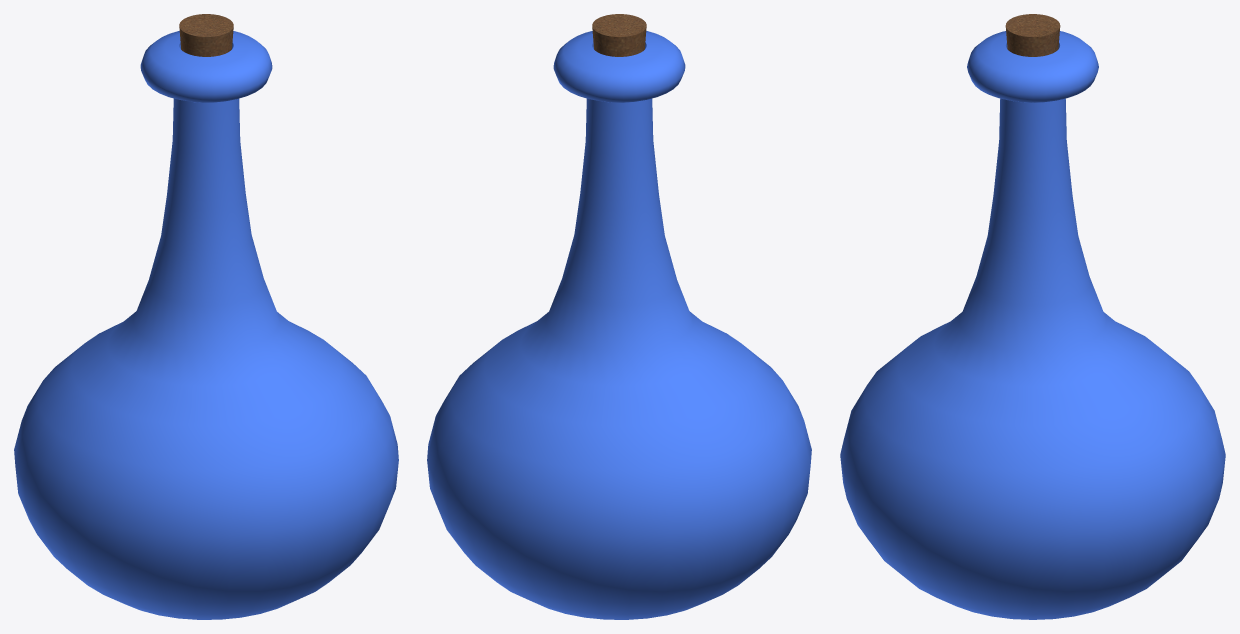
The model's file is mana_flask.gltf.
The picture shows the model from 3 angles, left to right: view 1: azimuth 30°, elevation 25°; view 2: azimuth 150°, elevation 25°; view 3: azimuth 270°, elevation 25°; orthographic projection.
Parts seen in each view (by area): view 1: Cylinder; view 2: Cylinder; view 3: Cylinder.
Part boxes in pixels (x1,y1,x2,y2): Cylinder: (14, 14, 398, 619); Cylinder: (427, 14, 811, 619); Cylinder: (840, 14, 1225, 619).
Size of the model in its own units: 0.1154 by 0.1893 by 0.1154.
Materials: 1 (1 with a texture image).
